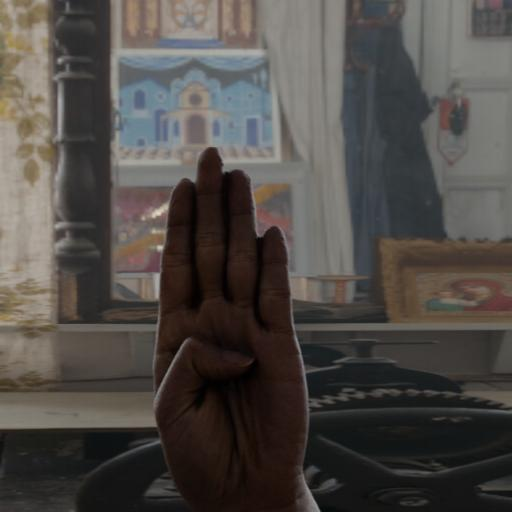B: (148, 144, 314, 491)
